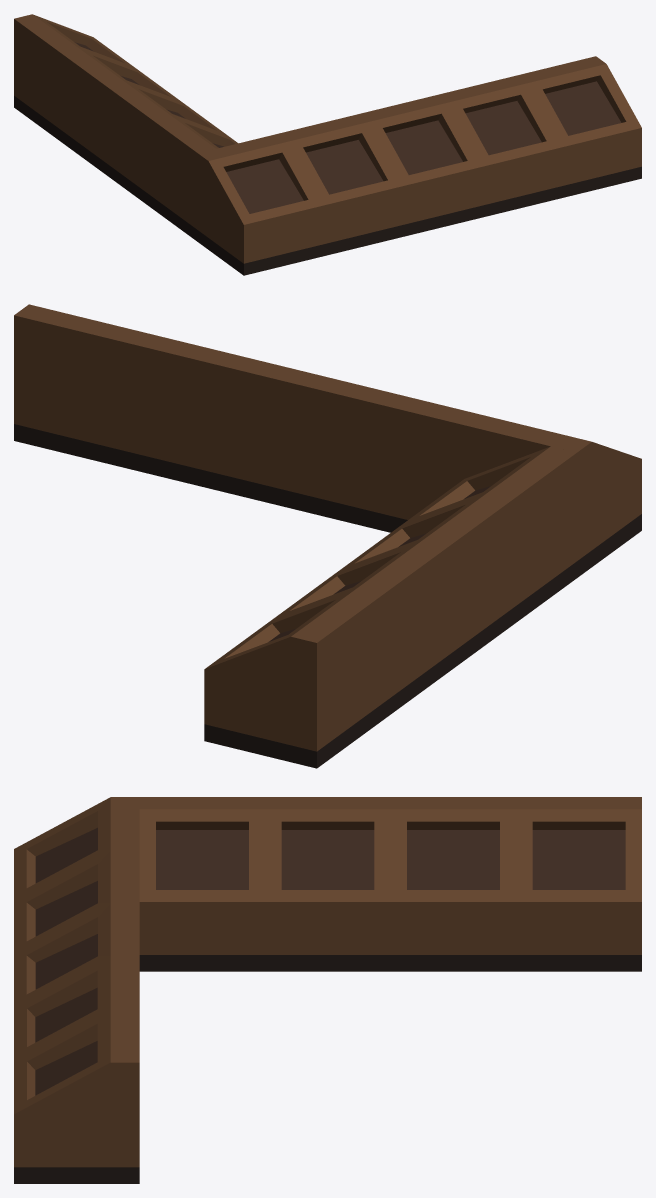
The model's file is backAngle2.fbx.
3 views of the same model, one above another, from view 1: azimuth 30°, elevation 25°; view 2: azimuth 150°, elevation 25°; view 3: azimuth 270°, elevation 25° (orthographic). The views are drawn at different scales.
Parts seen in each view (by area): view 1: Cube.021; view 2: Cube.021; view 3: Cube.021.
Boxes of the visible parts, left/top/right/bottom form: Cube.021: left=14, top=14, right=641, bottom=275; Cube.021: left=14, top=304, right=641, bottom=768; Cube.021: left=14, top=797, right=641, bottom=1183.
Bounding box in the file's own units: 500 × 107 × 500.
